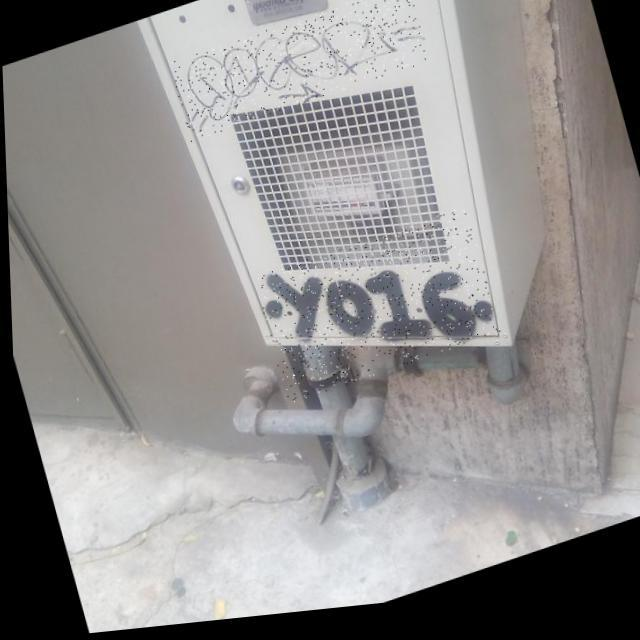-: (250, 213, 498, 412), (166, 0, 432, 147)
